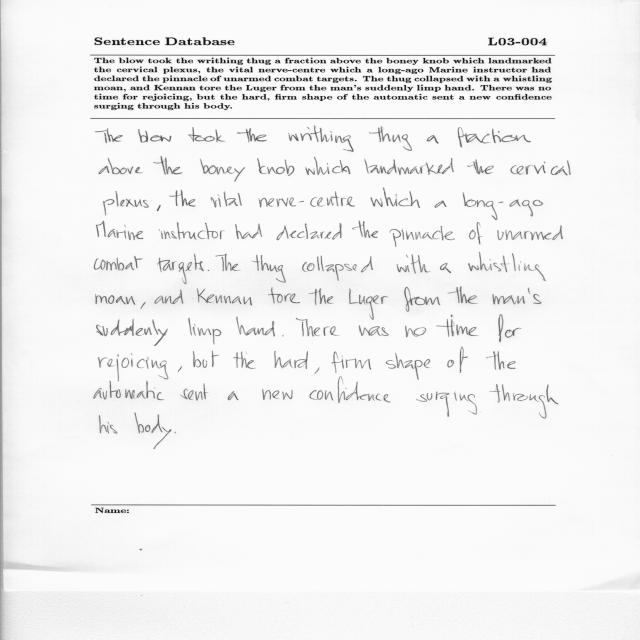word: (490, 384, 559, 419), (468, 252, 546, 281), (463, 193, 543, 220), (310, 377, 391, 403), (99, 353, 169, 382), (97, 319, 168, 346), (302, 255, 373, 281), (288, 126, 354, 152), (416, 391, 477, 417), (258, 191, 355, 207), (364, 158, 454, 175), (458, 127, 531, 147), (157, 254, 204, 284), (389, 226, 455, 247), (135, 413, 172, 449), (94, 381, 164, 400), (349, 289, 389, 320), (158, 222, 225, 240), (386, 353, 430, 380), (103, 191, 149, 216), (276, 223, 342, 240), (369, 126, 412, 151), (200, 159, 245, 182), (497, 226, 563, 241), (371, 188, 420, 208), (251, 255, 286, 283), (436, 315, 479, 337), (197, 288, 252, 305), (510, 161, 571, 176), (404, 287, 440, 312), (97, 221, 144, 240), (188, 318, 222, 344), (332, 352, 372, 373), (493, 288, 542, 305), (305, 157, 350, 175), (236, 317, 275, 337), (296, 318, 339, 336), (99, 158, 143, 174), (94, 256, 143, 270), (397, 254, 431, 274), (257, 158, 294, 176), (499, 315, 522, 343), (274, 351, 308, 369), (486, 351, 516, 370), (189, 127, 226, 142), (447, 347, 468, 373), (268, 287, 300, 304), (447, 287, 478, 304), (154, 157, 183, 175), (211, 192, 242, 208), (138, 129, 172, 143), (180, 384, 208, 401), (193, 350, 219, 368), (169, 190, 196, 207), (352, 221, 378, 238), (215, 254, 241, 271), (96, 294, 136, 305), (309, 289, 334, 306), (237, 128, 267, 142), (155, 290, 184, 304), (96, 128, 123, 143), (467, 160, 494, 175), (235, 224, 262, 239), (233, 352, 256, 369), (100, 415, 118, 434), (262, 389, 293, 400), (359, 325, 389, 336), (469, 222, 482, 245), (405, 326, 426, 337), (440, 263, 451, 273), (228, 391, 239, 400), (427, 135, 439, 143), (435, 200, 447, 208), (314, 367, 320, 374), (141, 302, 146, 309), (157, 205, 161, 211), (178, 366, 182, 372), (282, 335, 284, 336), (208, 270, 209, 271), (175, 432, 176, 433)
